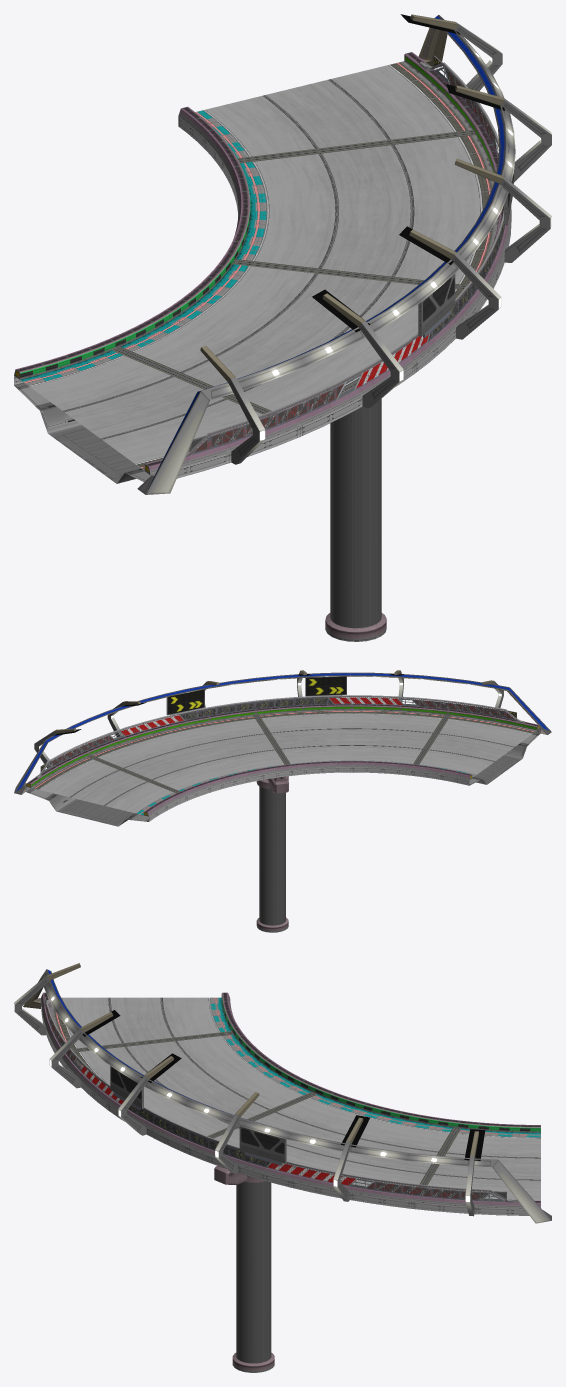
Rendered from T37 - Magnetic.fbx.
3 renders of one model, top to bottom at view 1: azimuth 30°, elevation 25°; view 2: azimuth 150°, elevation 25°; view 3: azimuth 270°, elevation 25°, orthographic. The views are drawn at different scales.
Visible parts, largest first — view 1: visual_drift_road, mag_cage, support_pylon, wall_drift, standard_bridge6, standard_arrow_right, magnetic_road_lines, prop_billboard_right_1, light_bloom_night, support_ground; view 2: visual_drift_road, wall_drift, standard_arrow_right, standard_bridge6, mag_cage, support_pylon, magnetic_road_lines, prop_billboard_right_1, prop_billboard_right; view 3: visual_drift_road, mag_cage, wall_drift, support_pylon, standard_arrow_right, standard_bridge6, magnetic_road_lines, prop_billboard_right, light_bloom_night, prop_billboard_right_1.
Boxes of the visible parts, x1,y1,x2,y2 form: visual_drift_road: [20, 61, 498, 470]; mag_cage: [137, 14, 551, 494]; support_pylon: [330, 399, 381, 628]; wall_drift: [14, 52, 511, 475]; standard_bridge6: [14, 116, 511, 483]; standard_arrow_right: [186, 55, 504, 456]; magnetic_road_lines: [63, 79, 458, 439]; prop_billboard_right_1: [418, 273, 455, 337]; light_bloom_night: [312, 14, 504, 332]; support_ground: [325, 613, 386, 641]; visual_drift_road: [31, 709, 536, 815]; wall_drift: [25, 704, 540, 816]; standard_arrow_right: [36, 695, 525, 778]; standard_bridge6: [25, 728, 540, 826]; mag_cage: [14, 670, 551, 794]; support_pylon: [259, 786, 285, 925]; magnetic_road_lines: [70, 718, 514, 805]; prop_billboard_right_1: [305, 676, 346, 697]; prop_billboard_right: [166, 689, 204, 715]; visual_drift_road: [50, 997, 540, 1200]; mag_cage: [14, 963, 551, 1223]; wall_drift: [41, 992, 540, 1208]; support_pylon: [236, 1181, 271, 1363]; standard_arrow_right: [44, 996, 518, 1202]; standard_bridge6: [41, 1000, 529, 1215]; magnetic_road_lines: [78, 997, 540, 1187]; prop_billboard_right: [239, 1126, 286, 1165]; light_bloom_night: [82, 1010, 485, 1160]; prop_billboard_right_1: [110, 1066, 143, 1110].
Bounding box in the file's own units: 12740 × 8002 × 12742.
